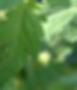Tomato leaf bacterial spot: (0, 0, 50, 90)
